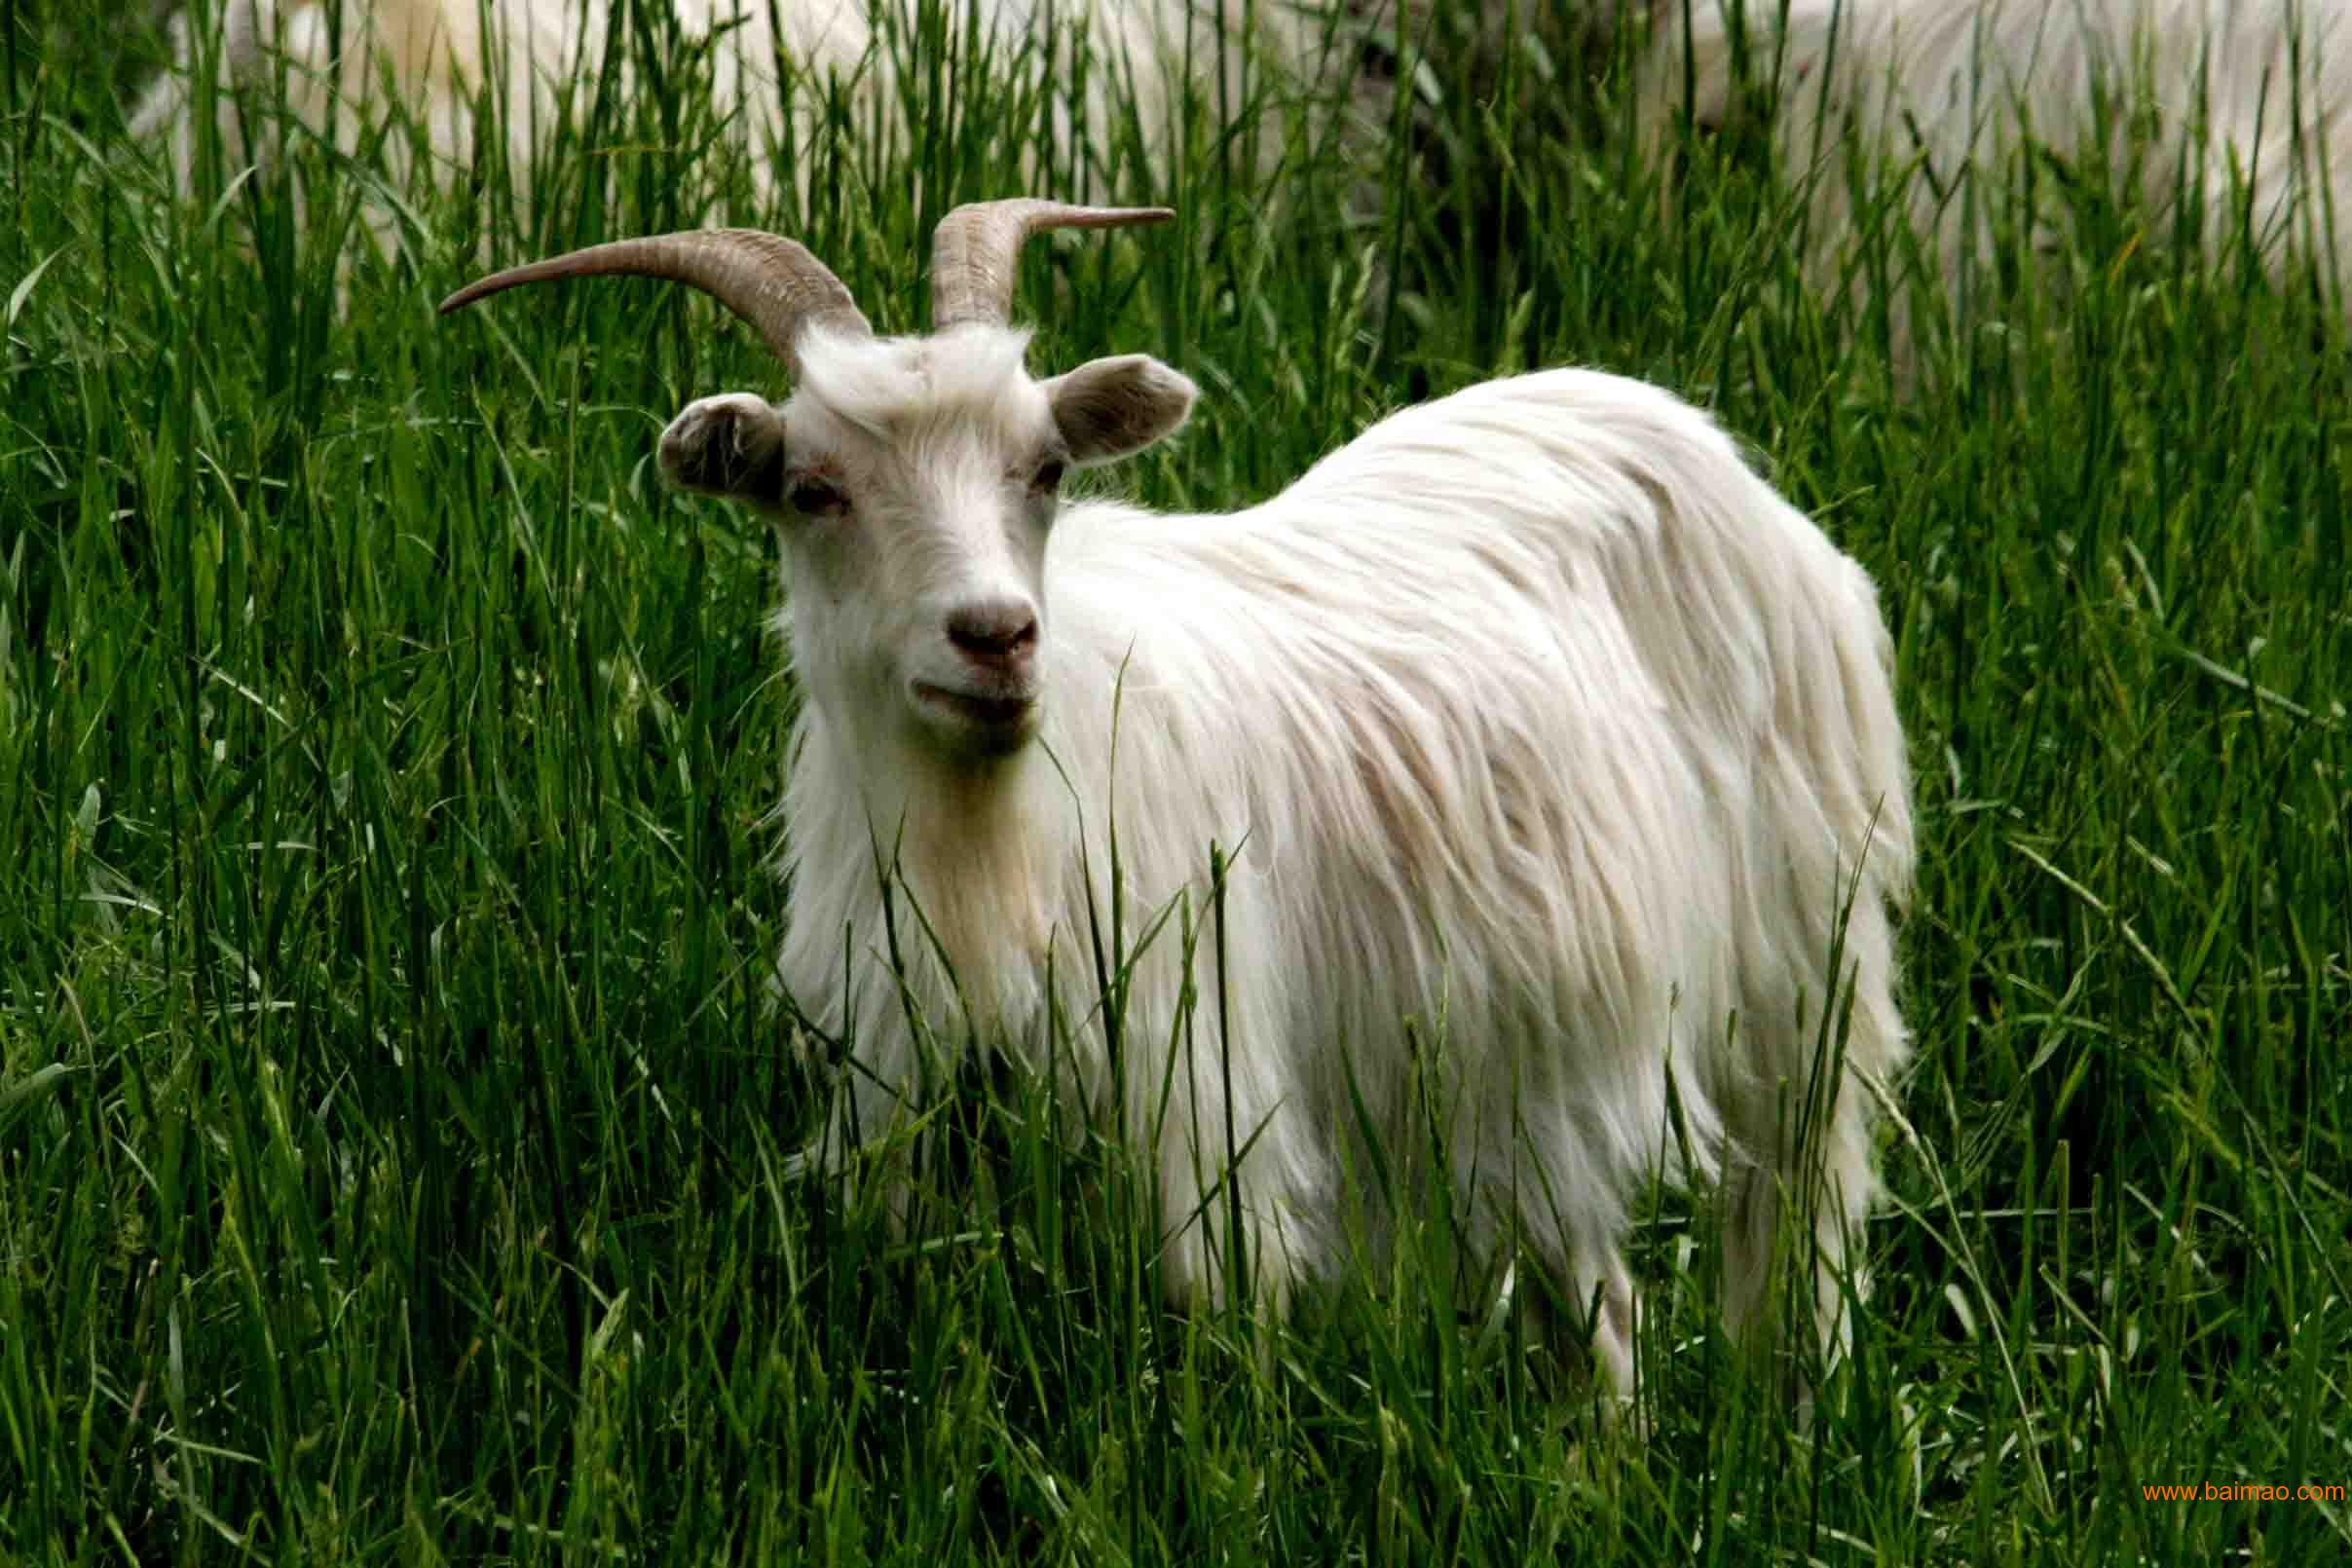cow: (432, 199, 1918, 1407)
